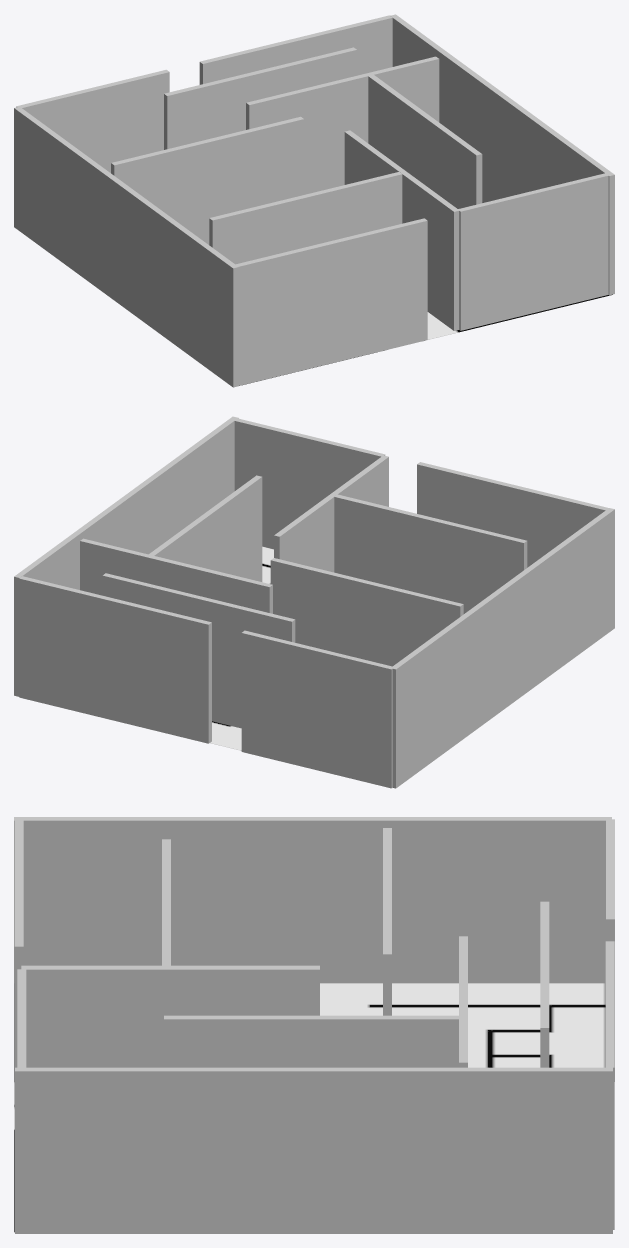
The model's file is maze_sample_with_floor.dae.
3 views of the same model, one above another, from view 1: azimuth 30°, elevation 25°; view 2: azimuth 150°, elevation 25°; view 3: azimuth 270°, elevation 25° (orthographic). The views are drawn at different scales.
Visible parts, largest first — view 1: Cube.002, Cube.006, Cube.005, Cube.003, Cube.008, Cube.004, Cube.010, Cube.001, Cube.011, Cube.009, Cube.007, Cube (+1 smaller); view 2: Cube.002, Cube, Cube.001, Cube.004, Cube.008, Cube.003, Cube.005, Cube.006, Cube.009, Cube.011, Cube.010, Cube.007 (+1 smaller); view 3: Cube.003, Cube.002, Cube.007, Cube.011, sample_maze, Cube.006, Cube.008, Cube.009, Cube, Cube.001, Cube.010, Cube.004 (+1 smaller).
Part boxes in pixels (x1,y1,x2,y2): Cube.002: [14, 106, 238, 387]; Cube.006: [235, 218, 427, 385]; Cube.005: [458, 173, 610, 330]; Cube.003: [390, 14, 614, 295]; Cube.008: [111, 116, 303, 244]; Cube.004: [209, 172, 402, 264]; Cube.010: [246, 56, 439, 194]; Cube.001: [16, 69, 169, 172]; Cube.011: [367, 74, 482, 208]; Cube.009: [164, 47, 356, 149]; Cube.007: [344, 130, 459, 330]; Cube: [199, 15, 392, 84]; Cube.002: [391, 508, 614, 788]; Cube: [19, 576, 211, 743]; Cube.001: [241, 630, 392, 788]; Cube.004: [334, 494, 527, 613]; Cube.008: [270, 558, 463, 666]; Cube.003: [14, 416, 238, 696]; Cube.005: [232, 418, 385, 549]; Cube.006: [417, 462, 608, 567]; Cube.009: [102, 573, 295, 728]; Cube.011: [149, 475, 262, 581]; Cube.010: [80, 538, 272, 613]; Cube.007: [274, 455, 388, 572]; Cube.003: [15, 1067, 612, 1233]; Cube.002: [14, 817, 611, 983]; Cube.007: [21, 965, 319, 1067]; Cube.011: [164, 1015, 462, 1067]; sample_maze: [14, 983, 605, 1232]; Cube.006: [14, 820, 23, 1108]; Cube.008: [383, 828, 391, 1015]; Cube.009: [540, 901, 549, 1067]; Cube: [605, 941, 614, 1229]; Cube.001: [606, 819, 614, 1081]; Cube.010: [459, 936, 467, 1067]; Cube.004: [162, 839, 170, 965].
Bounding box in the file's own units: 10.07 × 10.05 × 3.
1 material, 1 textured.
